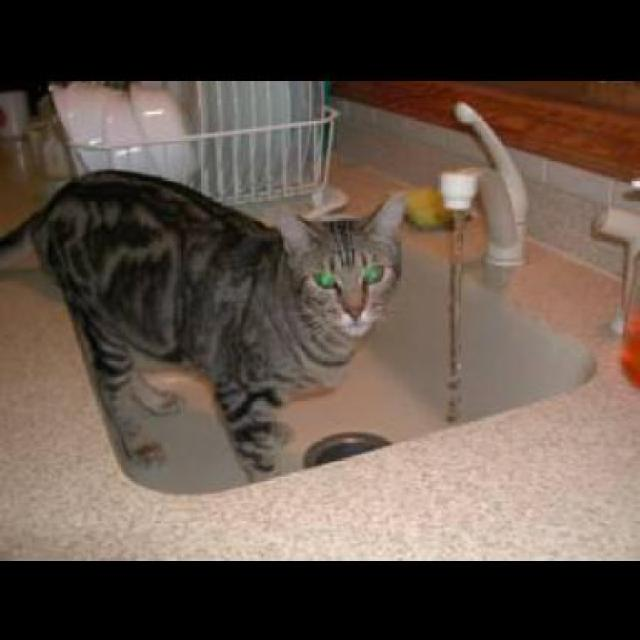unauthorized: (0, 168, 406, 482)
